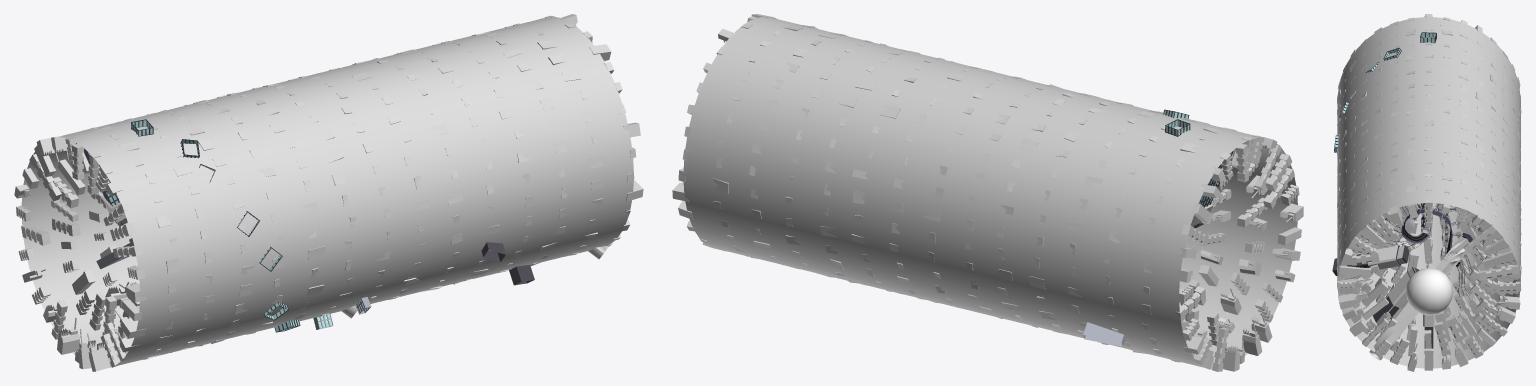
File: Buildings.fbx
The picture shows the model from 3 angles, left to right: view 1: azimuth 30°, elevation 25°; view 2: azimuth 150°, elevation 25°; view 3: azimuth 270°, elevation 25°; orthographic projection. The views are drawn at different scales.
Visible parts, largest first — view 1: Background; view 2: Background, Building15; view 3: Background, Eye, TwistyBuilding1, FancyRoad Mesh, Building3, Building2, Building4, SpiralBuilding, Building1, Building13, Building1__3_.
Boxes of the visible parts, x1,y1,x2,y2 form: Background: (14, 14, 643, 371); Background: (672, 14, 1303, 371); Building15: (1083, 322, 1125, 346); Background: (1337, 14, 1521, 371); Eye: (1405, 268, 1453, 315); TwistyBuilding1: (1369, 233, 1472, 360); FancyRoad Mesh: (1364, 203, 1496, 296); Building3: (1332, 245, 1409, 275); Building2: (1373, 267, 1419, 322); Building4: (1357, 203, 1420, 254); SpiralBuilding: (1438, 234, 1468, 276); Building1: (1423, 314, 1435, 353); Building13: (1420, 32, 1436, 43); Building1__3_: (1397, 203, 1420, 232).
Size of the model in its own units: 113764 by 46788 by 44711.
